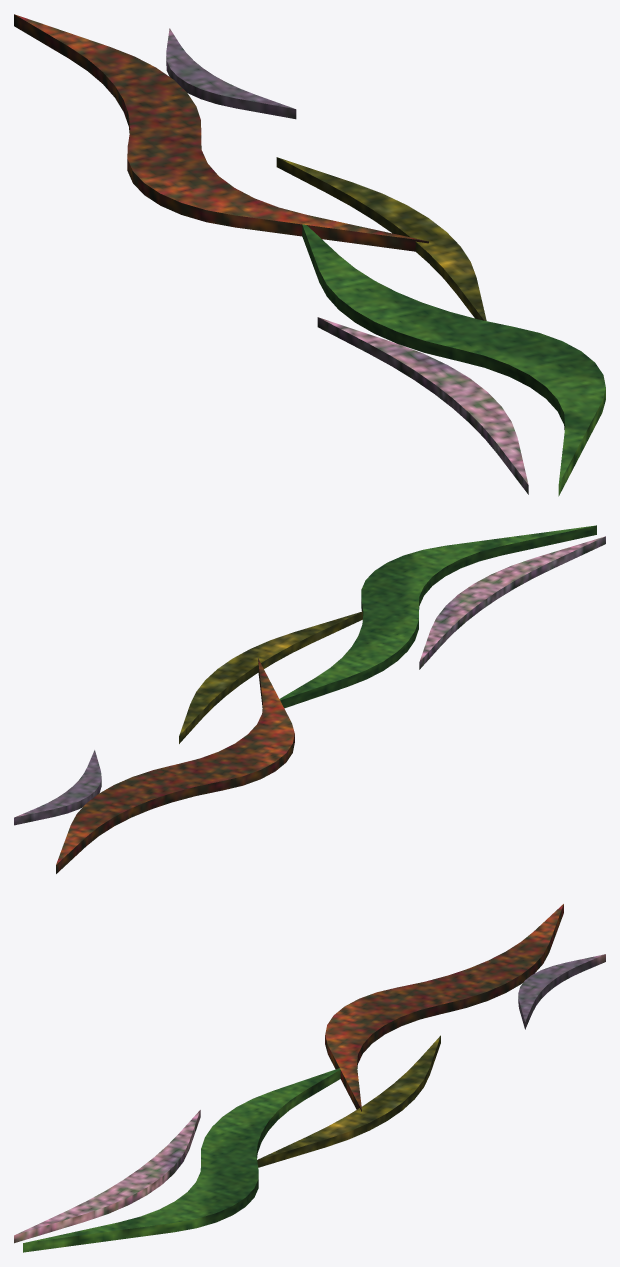
File: flower.obj
3 renders of one model, top to bottom at view 1: azimuth 30°, elevation 25°; view 2: azimuth 150°, elevation 25°; view 3: azimuth 330°, elevation 25°, orthographic. The views are drawn at different scales.
Visible parts, largest first — view 1: flower; view 2: flower; view 3: flower.
Part boxes in pixels (left/top/right/bottom): flower: left=14, top=14, right=605, bottom=496; flower: left=14, top=525, right=605, bottom=873; flower: left=14, top=904, right=605, bottom=1252.
Bounding box in the file's own units: 54.87 × 3 × 279.
1 material, 1 textured.
